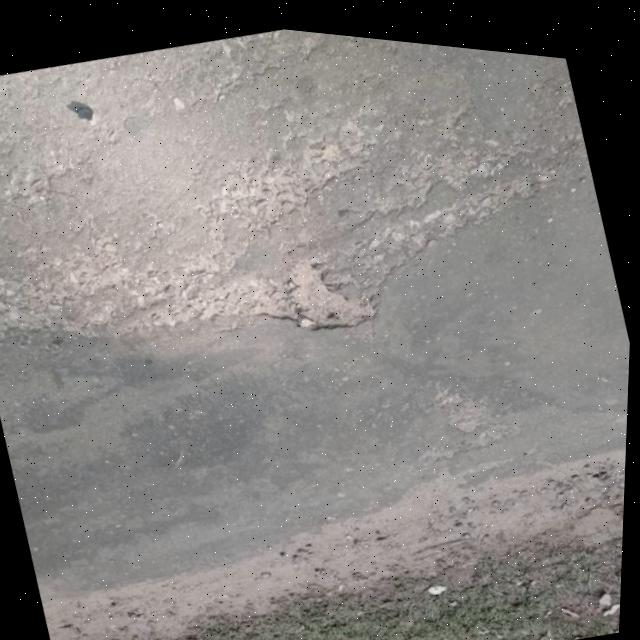Pothole: (273, 229, 388, 340)
